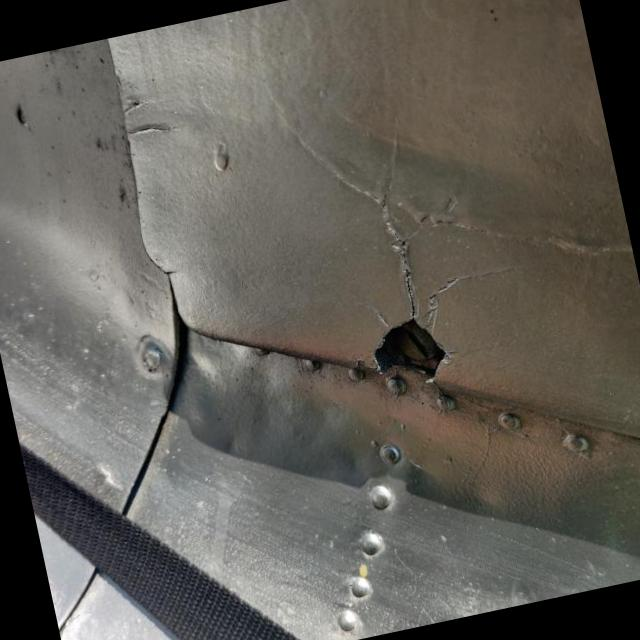Crack: (307, 137, 466, 376)
